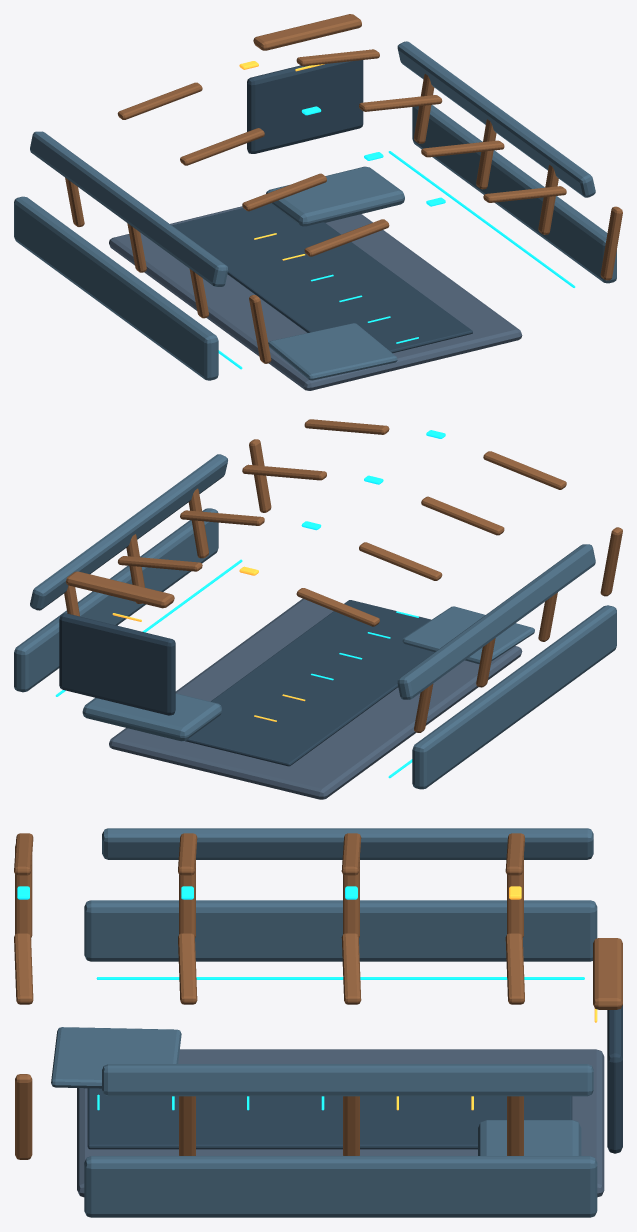
Rendered from pulseReactorEncounterWorldV4.candidate.glb.
The picture shows the model from 3 angles, top to bottom: view 1: azimuth 30°, elevation 25°; view 2: azimuth 150°, elevation 25°; view 3: azimuth 270°, elevation 25°; orthographic projection. The views are drawn at different scales.
Parts seen in each view (by area): view 1: V4 recessed exchange lane, V4 continuous reactor deck, V4 connected sidewall -1, V4 terminal backstop, V4 connected sidewall 1, V4 upper containment shoulder -1, V4 upper containment shoulder 1, V4 raised sentinel dock, V4 runner launch apron, V4 terminal crown, V4 crown brace 0 -1, V4 crown brace 1 -1 (+15 smaller); view 2: V4 recessed exchange lane, V4 continuous reactor deck, V4 connected sidewall -1, V4 terminal backstop, V4 connected sidewall 1, V4 upper containment shoulder -1, V4 upper containment shoulder 1, V4 raised sentinel dock, V4 runner launch apron, V4 terminal crown, V4 crown brace 0 -1, V4 crown brace 1 -1 (+12 smaller); view 3: V4 connected sidewall 1, V4 connected sidewall -1, V4 recessed exchange lane, V4 upper containment shoulder 1, V4 upper containment shoulder -1, V4 continuous reactor deck, V4 runner launch apron, V4 raised sentinel dock, V4 terminal backstop, V4 terminal crown, V4 load rib 0 1, V4 continuous lane conduit -1 (+15 smaller).
Part boxes in pixels (x1,y1,x2,y2): V4 recessed exchange lane: (172,203,472,353); V4 continuous reactor deck: (109,206,522,390); V4 connected sidewall -1: (14,196,218,380); V4 terminal backstop: (247,60,363,153); V4 connected sidewall 1: (412,105,616,283); V4 upper containment shoulder -1: (30,131,227,286); V4 upper containment shoulder 1: (397,41,595,197); V4 raised sentinel dock: (266,166,404,226); V4 runner launch apron: (268,323,397,380); V4 terminal crown: (253,14,361,50); V4 crown brace 0 -1: (304,219,389,256); V4 crown brace 1 -1: (242,173,326,211); V4 recessed exchange lane: (185,600,434,766); V4 continuous reactor deck: (109,598,522,799); V4 connected sidewall -1: (412,605,616,789); V4 terminal backstop: (59,613,175,715); V4 connected sidewall 1: (14,508,218,692); V4 upper containment shoulder -1: (397,544,595,699); V4 upper containment shoulder 1: (30,454,227,610); V4 raised sentinel dock: (82,693,222,741); V4 runner launch apron: (402,606,534,664); V4 terminal crown: (66,571,174,608); V4 crown brace 0 -1: (483,451,566,489); V4 crown brace 1 -1: (421,496,504,535); V4 connected sidewall 1: (84,1156,597,1217); V4 connected sidewall -1: (84,900,597,961); V4 recessed exchange lane: (87,1088,572,1149); V4 upper containment shoulder 1: (102,1064,593,1096); V4 upper containment shoulder -1: (102,828,593,859); V4 continuous reactor deck: (77,1049,604,1197); V4 runner launch apron: (51,1027,181,1088); V4 raised sentinel dock: (478,1120,581,1155); V4 terminal backstop: (607,1005,622,1153); V4 terminal crown: (593,938,622,1009); V4 load rib 0 1: (15,1074,32,1159); V4 continuous lane conduit -1: (96,977,584,979).
Size of the model in its own units: 8.8 by 3.72 by 8.55.
